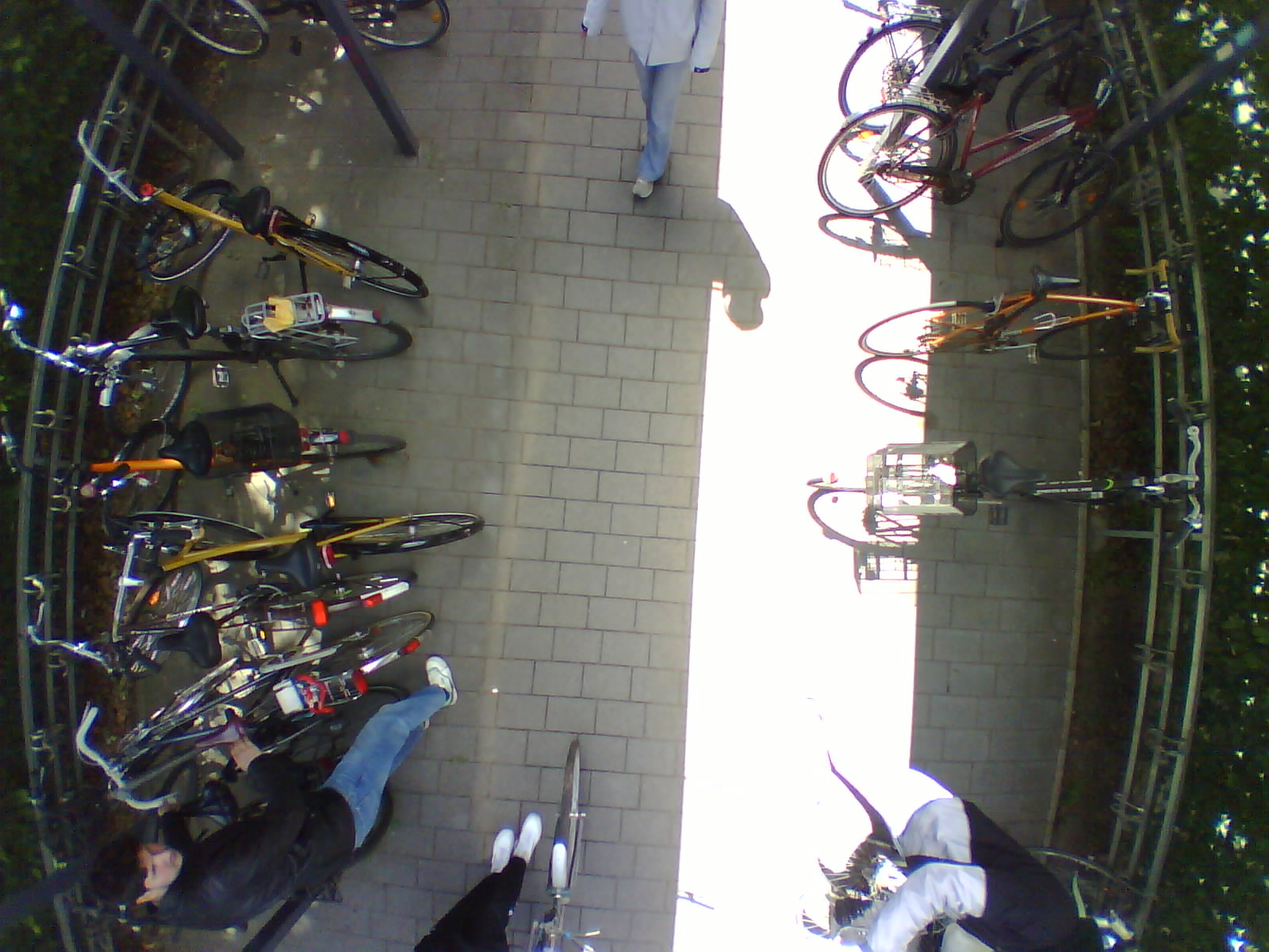bicylce: (817, 52, 1128, 239), (802, 422, 1201, 549), (72, 297, 415, 433), (836, 0, 1120, 135), (142, 173, 433, 301), (98, 513, 482, 605), (80, 602, 433, 697), (856, 260, 1188, 361), (78, 419, 408, 515)
saddle: (982, 445, 1052, 504), (154, 610, 223, 668), (171, 777, 243, 830), (256, 539, 322, 594), (214, 184, 276, 236), (149, 288, 210, 340), (158, 428, 217, 478), (189, 712, 254, 752), (1028, 263, 1086, 303), (963, 54, 1015, 91)
